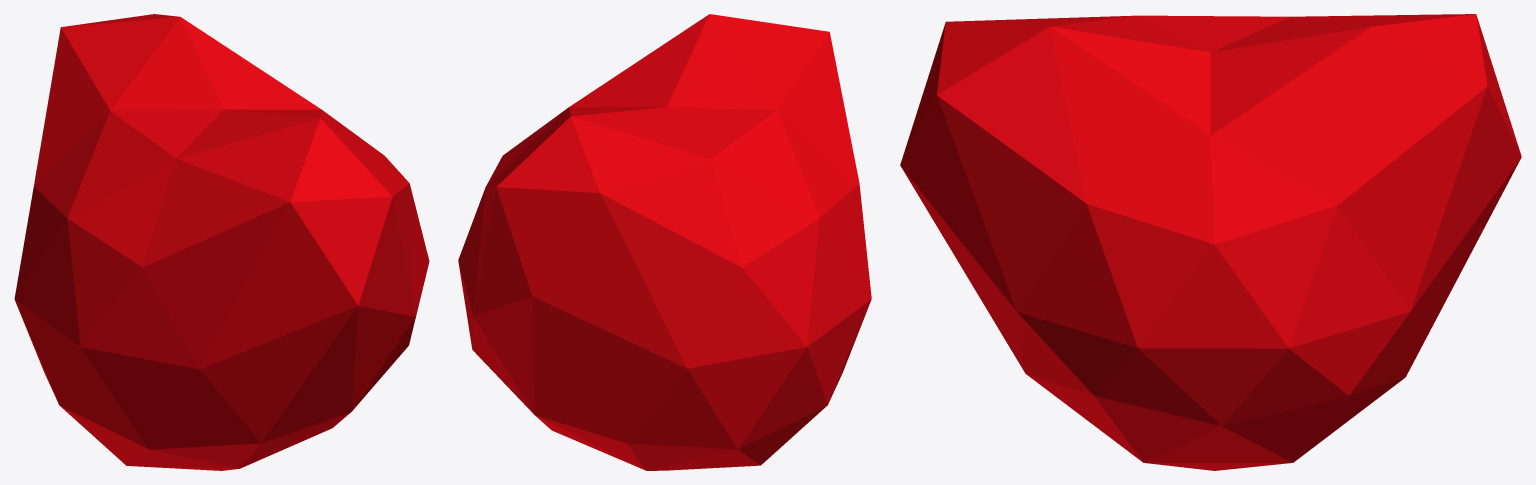
The model's file is health.fbx.
3 views of the same model, side by side, from view 1: azimuth 30°, elevation 25°; view 2: azimuth 150°, elevation 25°; view 3: azimuth 270°, elevation 25° (orthographic). The views are drawn at different scales.
Visible parts, largest first — view 1: Icosphere; view 2: Icosphere; view 3: Icosphere.
Boxes of the visible parts, x1,y1,x2,y2 form: Icosphere: (14, 14, 429, 470); Icosphere: (458, 14, 871, 470); Icosphere: (900, 14, 1521, 470).
Bounding box in the file's own units: 192 × 209 × 256.
